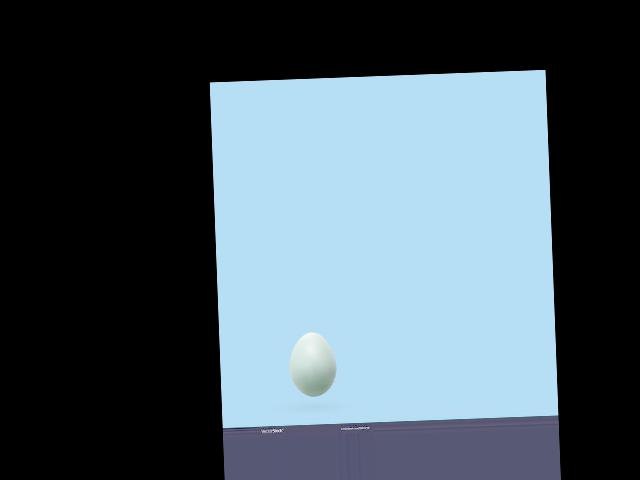egg: (288, 331, 338, 397)
